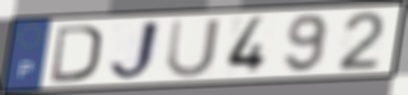2: (337, 10, 388, 73)
4: (222, 14, 270, 78)
9: (283, 13, 331, 75)
D: (49, 23, 104, 85)
J: (106, 19, 164, 83)
U: (164, 16, 223, 80)
